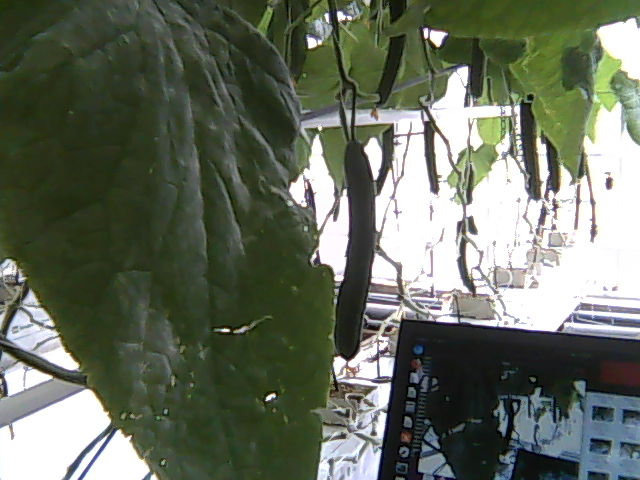concombre: (331, 134, 381, 378)
